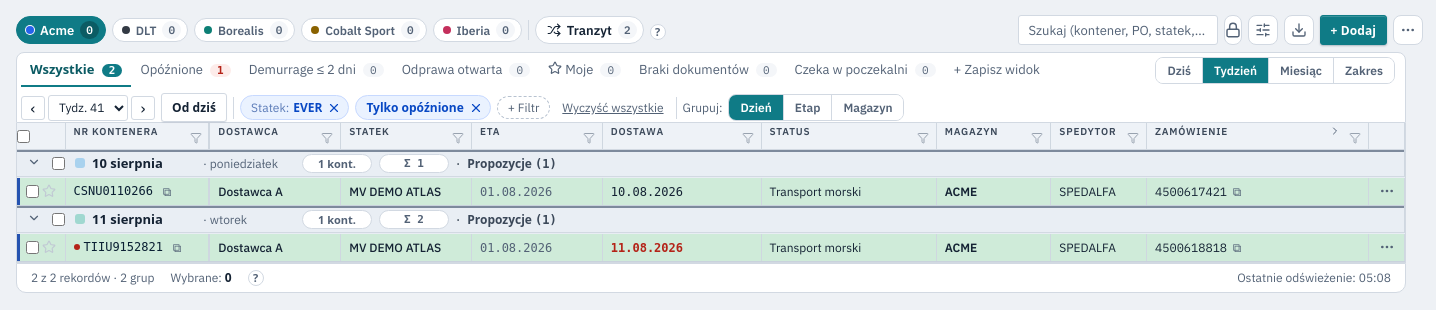
Test case: kolejka — filtry widoczne › pasek chipów pojawia się przy aktywnym filtrze; × usuwa filtr, „Wyczyść wszystkie" czyści komplet (decyzja 15)
The width and height of the screenshot is (1436, 310).
expect the text "CSNU0110266" is shown: met, box [74, 184, 153, 198]
expect the element with class "kq-filters" is shown: met, box [16, 52, 1406, 123]
Click the button with class "chip-x" next to "EVER".
click(334, 108)  # box [326, 100, 342, 116]
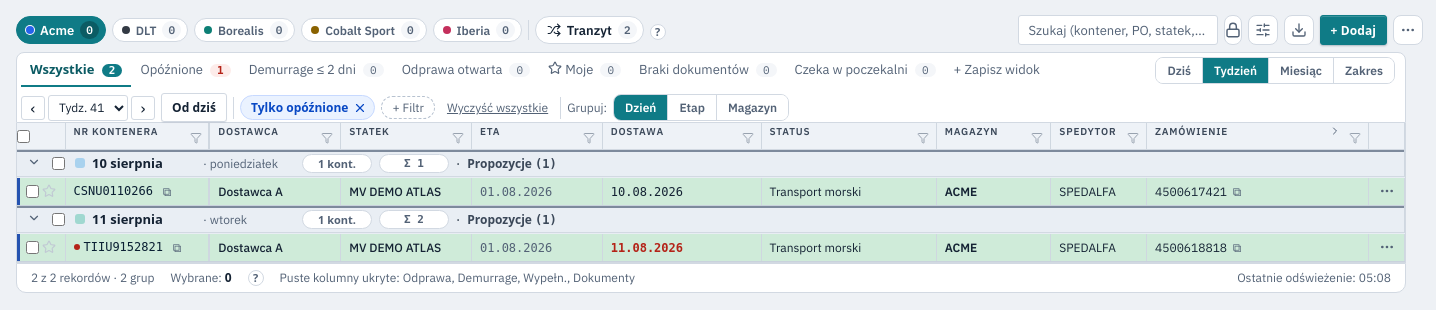
expect the text with class "kq-filters" no longer shows "EVER": met
Click the button "Wyczyść wszystkie".
click(498, 108)  # box [441, 99, 554, 116]
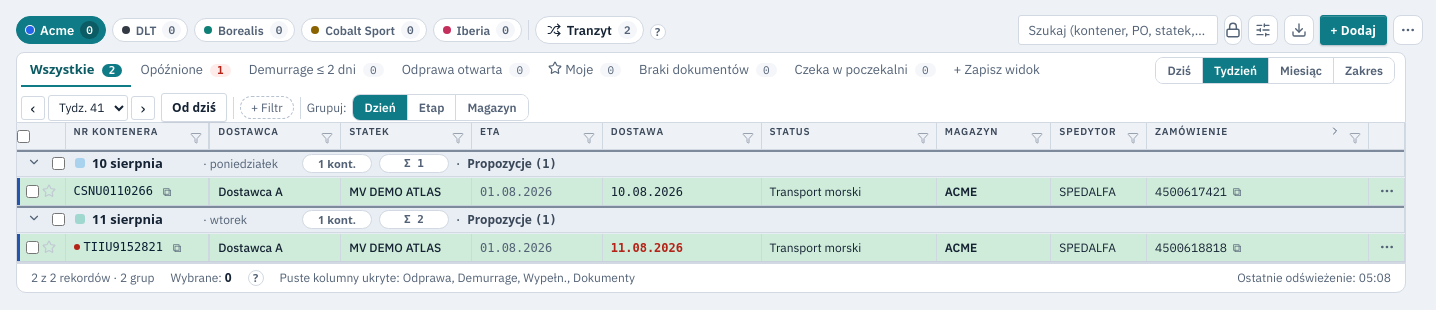
expect the element with class "kq-chip" is gone: met
